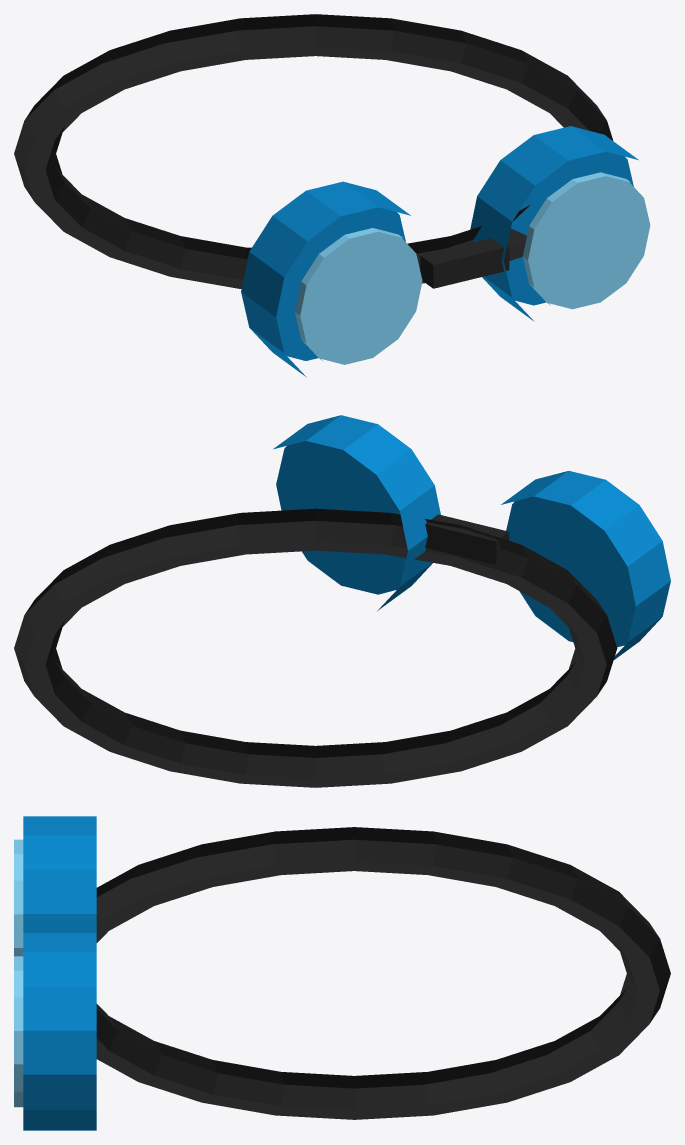
Rendered from simglasogon.glb.
The picture shows the model from 3 angles, top to bottom: view 1: azimuth 30°, elevation 25°; view 2: azimuth 150°, elevation 25°; view 3: azimuth 270°, elevation 25°; orthographic projection. The views are drawn at different scales.
Visible parts, largest first — view 1: simglasogon; view 2: simglasogon; view 3: simglasogon.
Boxes of the visible parts, <box> form: simglasogon: <box>14,14,650,377</box>; simglasogon: <box>14,415,670,787</box>; simglasogon: <box>14,816,670,1130</box>.
Size of the model in its own units: 0.344 by 0.1073 by 0.357.
